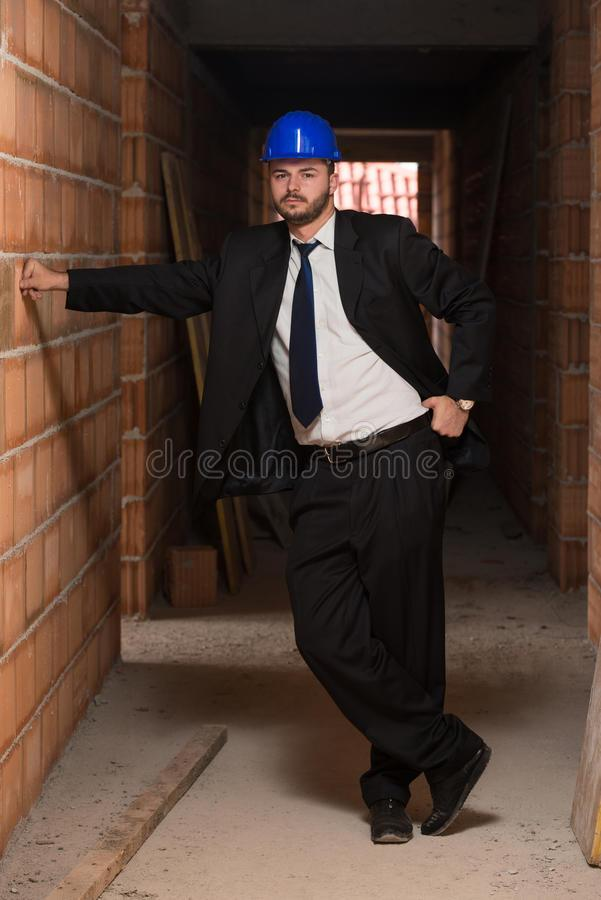helmet: (262, 112, 341, 162)
